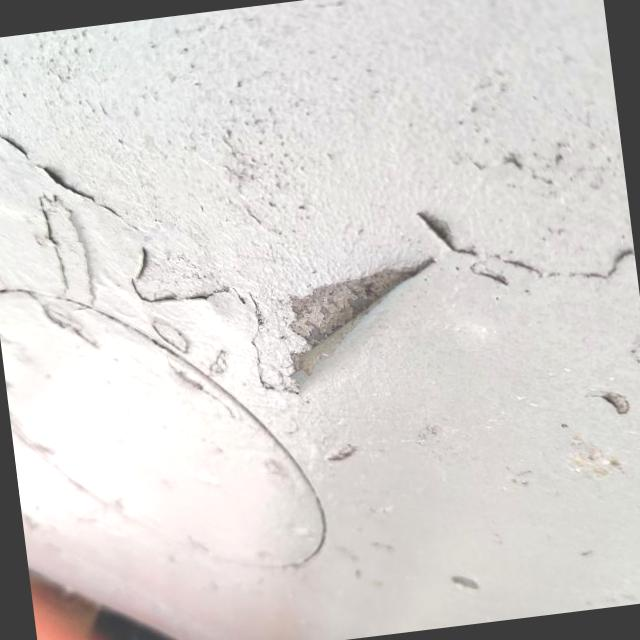paint-off: (252, 222, 472, 418)
